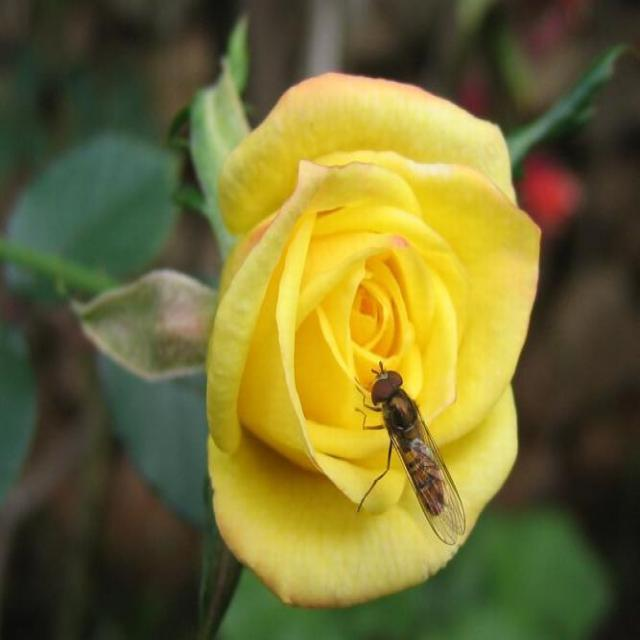rose: (90, 36, 610, 631)
